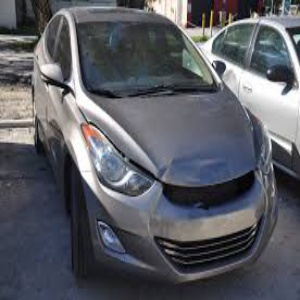bonnet: (145, 153, 236, 186)
